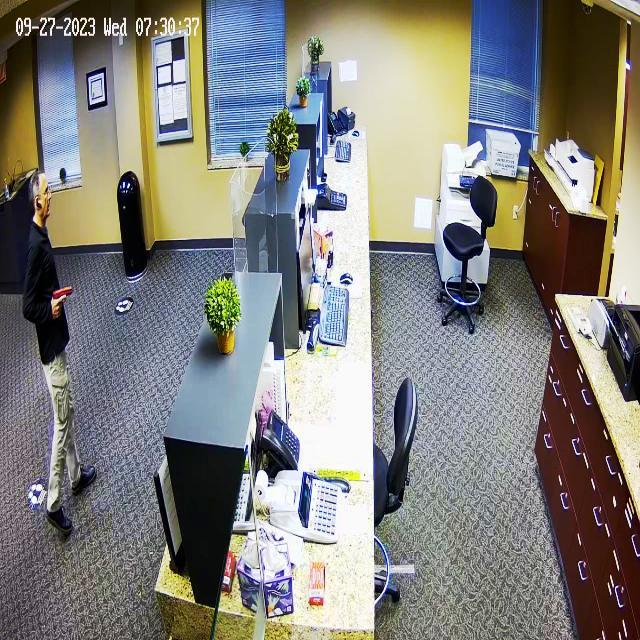Gun: (52, 279, 84, 317)
